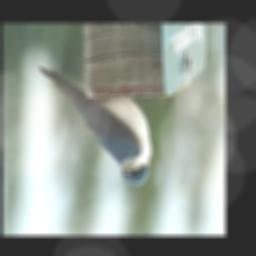Swallow: (38, 66, 152, 186)
